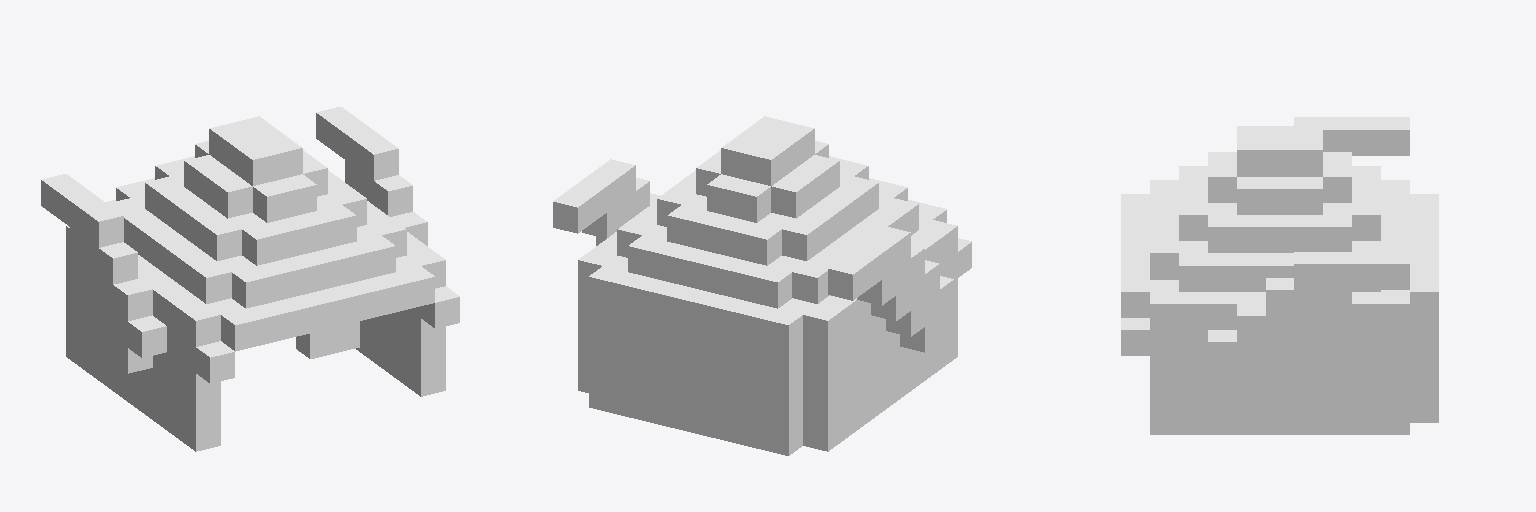
The model's file is EnemySkeleton2-1.obj.
3 views of the same model, side by side, from view 1: azimuth 30°, elevation 25°; view 2: azimuth 150°, elevation 25°; view 3: azimuth 270°, elevation 25° (orthographic).
Parts seen in each view (by area): view 1: object 1; view 2: object 1; view 3: object 1.
Boxes of the visible parts, box(x1,y1,x2,y2) form: object 1: box(41, 107, 459, 451); object 1: box(553, 116, 971, 455); object 1: box(1121, 117, 1438, 434).
Bounding box in the file's own units: 1.2 × 0.9 × 1.1.